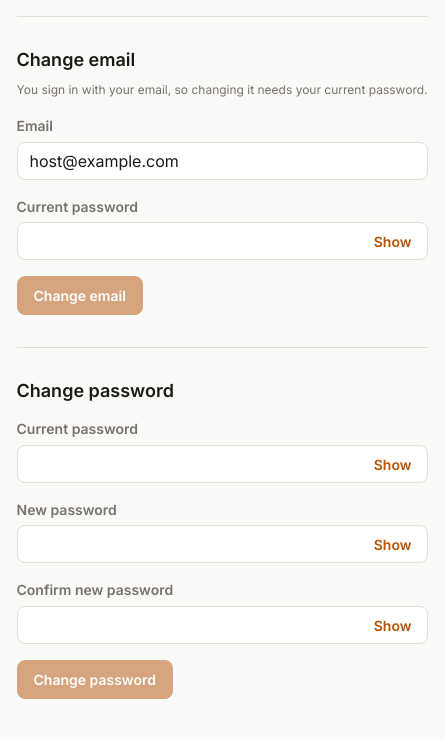
Test case: changing the password › won't submit until the new passwords match
(page scrolled)
In the 2nd password field labelled "Current password": (222, 464) top-left (16, 445), bottom-right (428, 483), type "correct-horse"
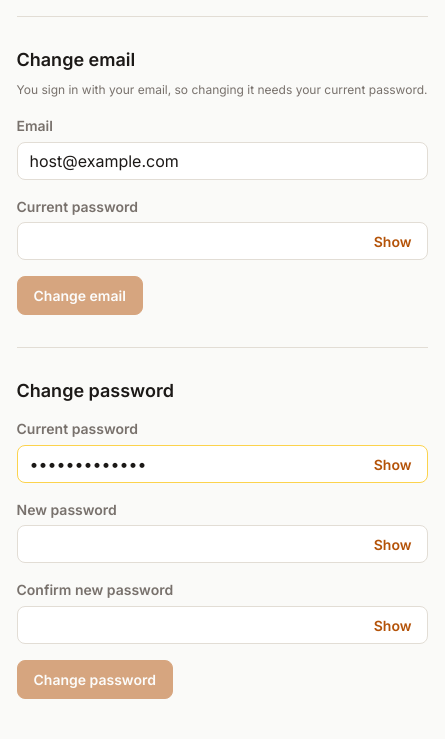
In the password field labelled "New password": (222, 544) top-left (16, 525), bottom-right (428, 563), type "a-new-long-passphrase"
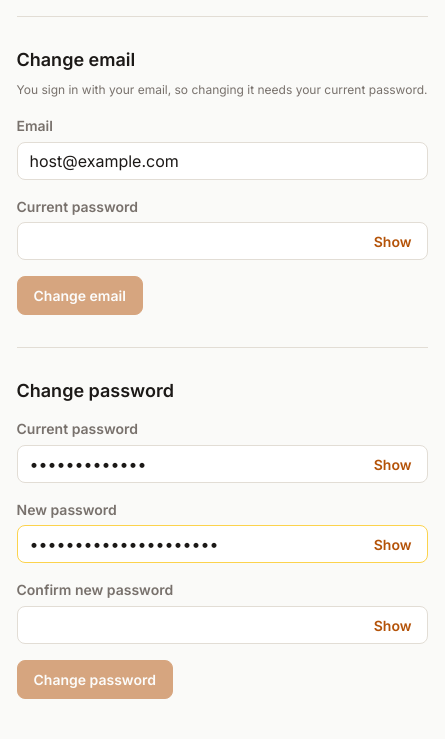
In the password field labelled "Confirm new password": (222, 625) top-left (16, 606), bottom-right (428, 644), type "something-else"
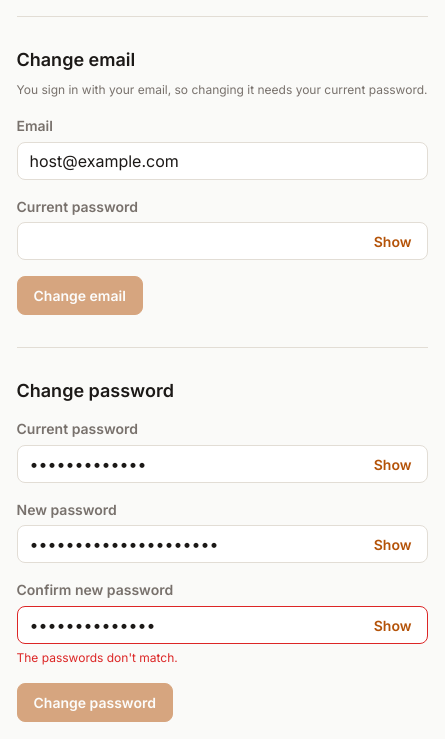
Expected: the button "Change password" is disabled, top-left (16, 683), bottom-right (173, 722)
Expected: the text "The passwords don't match." is shown, top-left (16, 650), bottom-right (178, 665)
